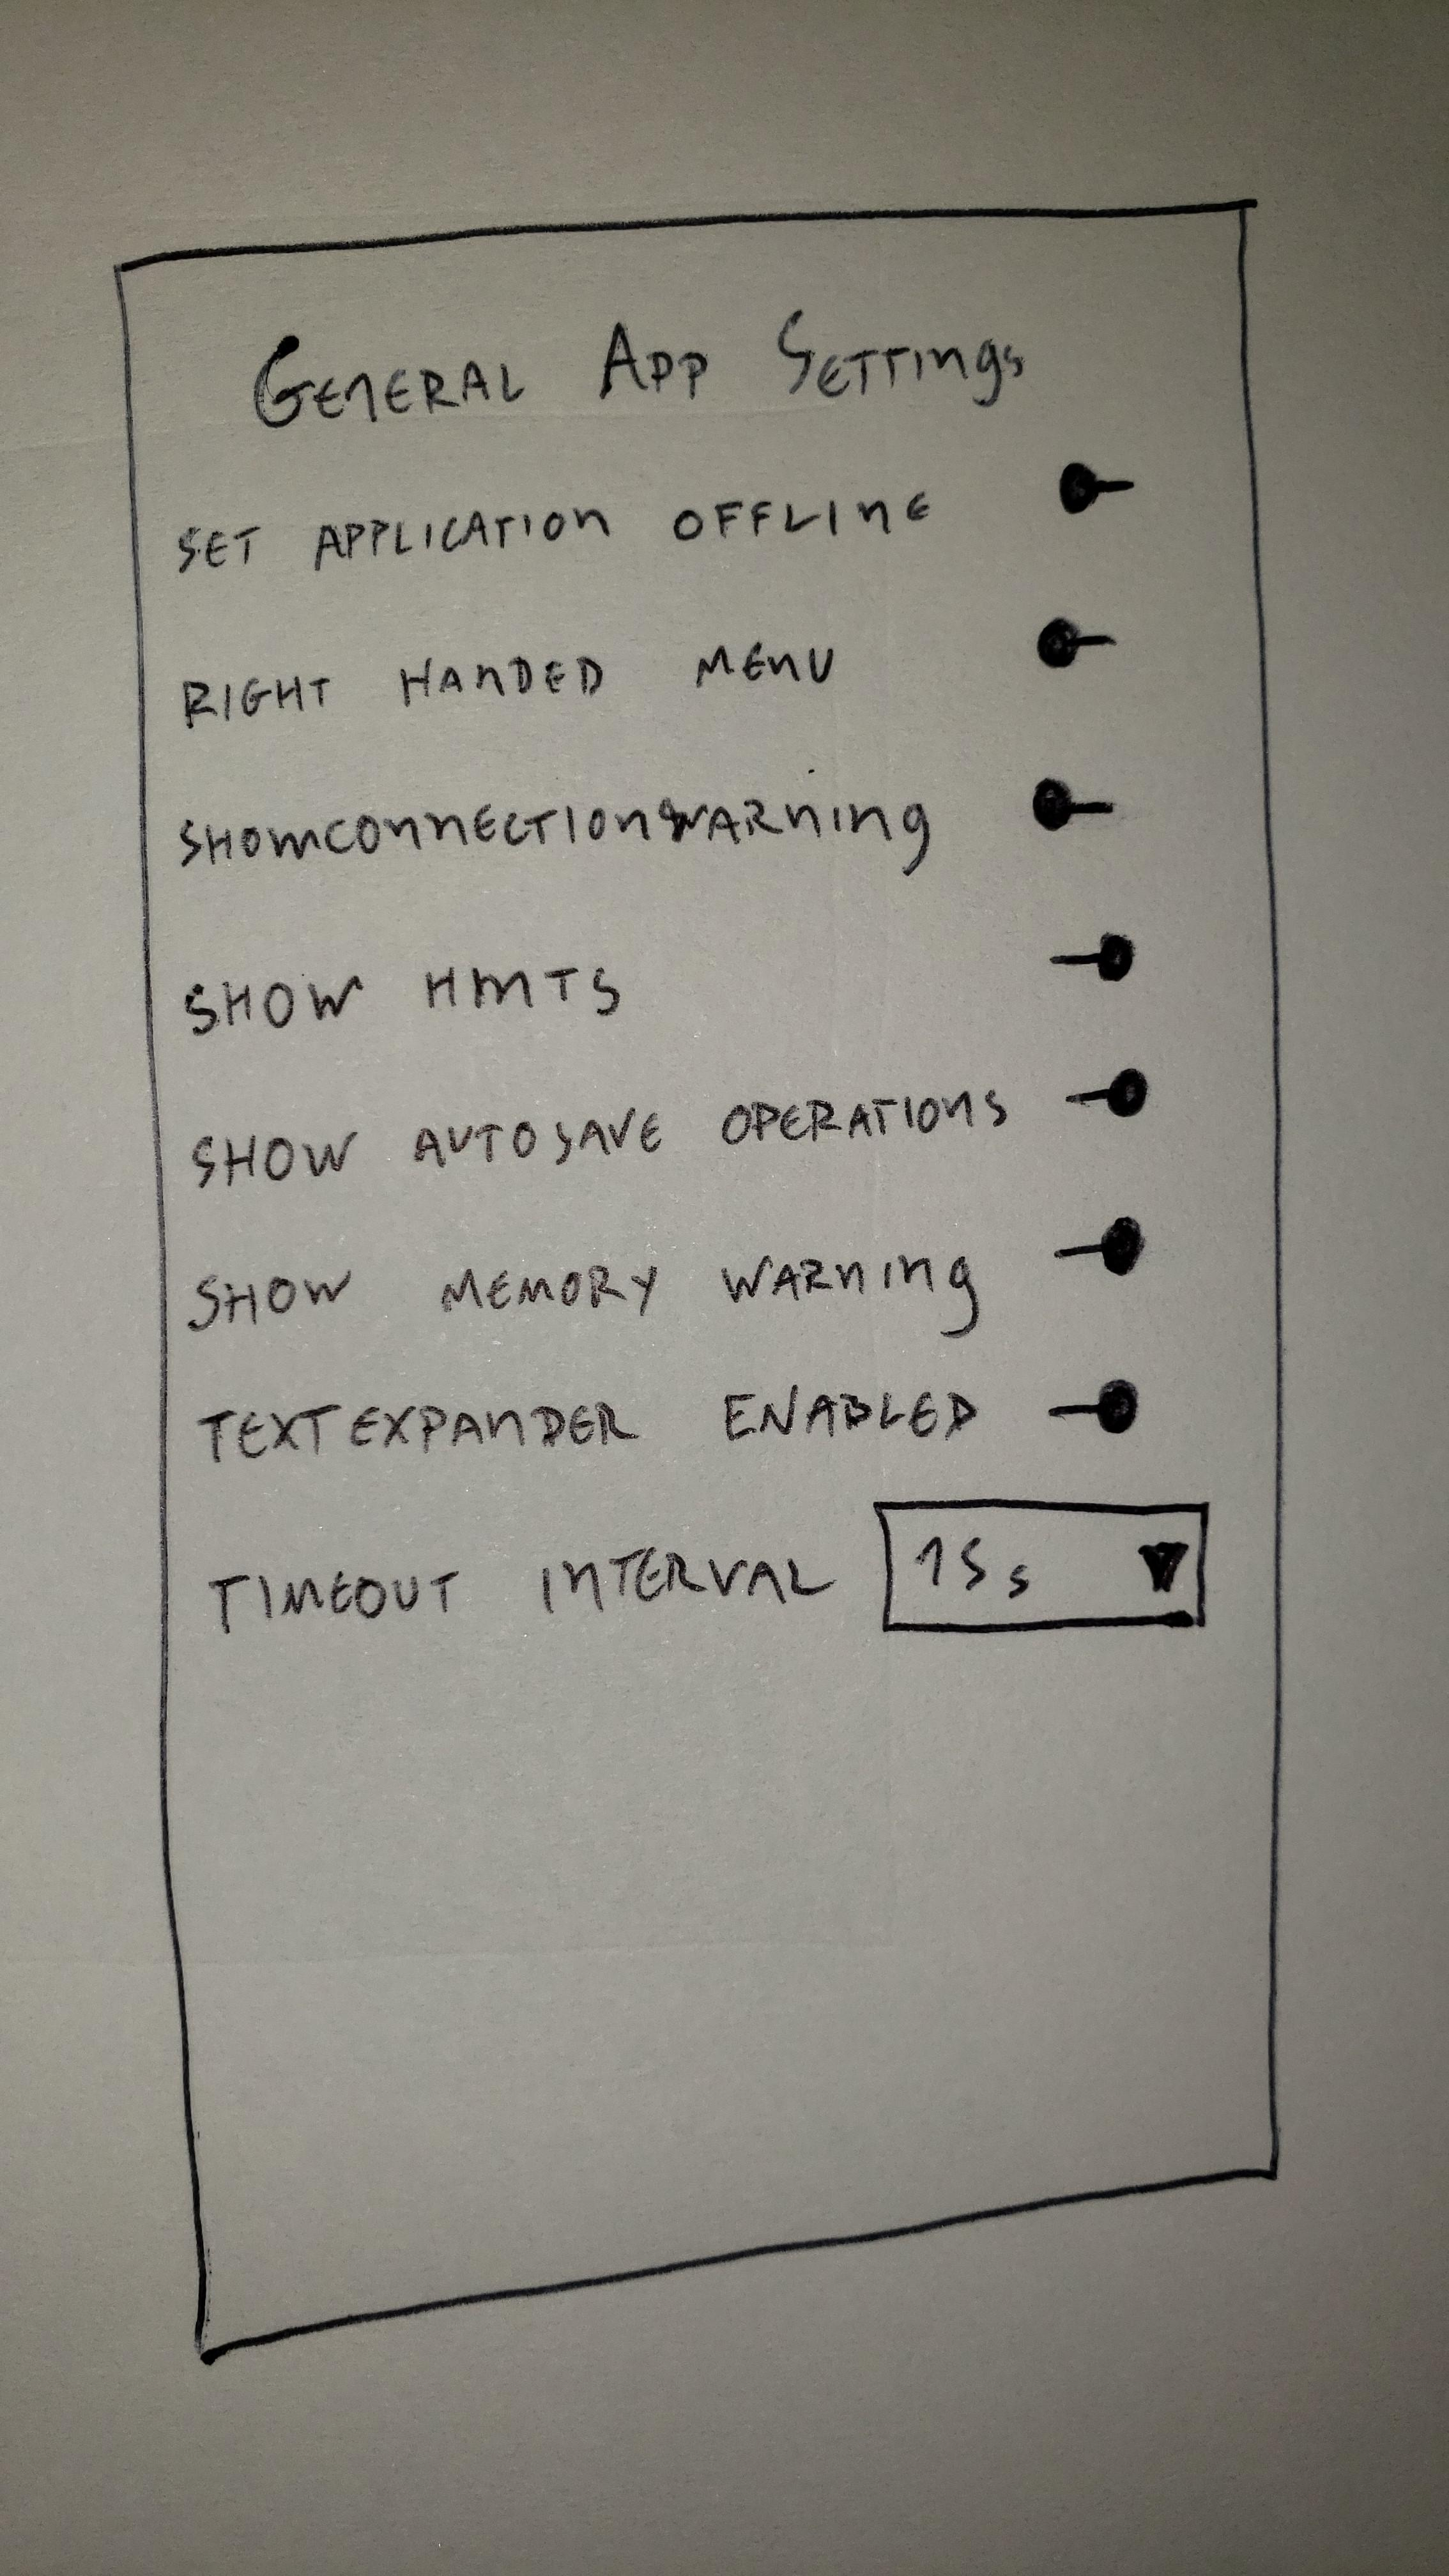Label: (246, 303, 1028, 432), (203, 1539, 839, 1640)
ListPicker: (870, 1497, 1214, 1637)
Screen: (113, 203, 1281, 2362)
Switch: (189, 1060, 1154, 1191), (186, 1210, 1146, 1336), (175, 458, 1132, 582), (177, 927, 1138, 1044), (180, 614, 1118, 731), (175, 768, 1116, 874), (195, 1373, 1139, 1468)
